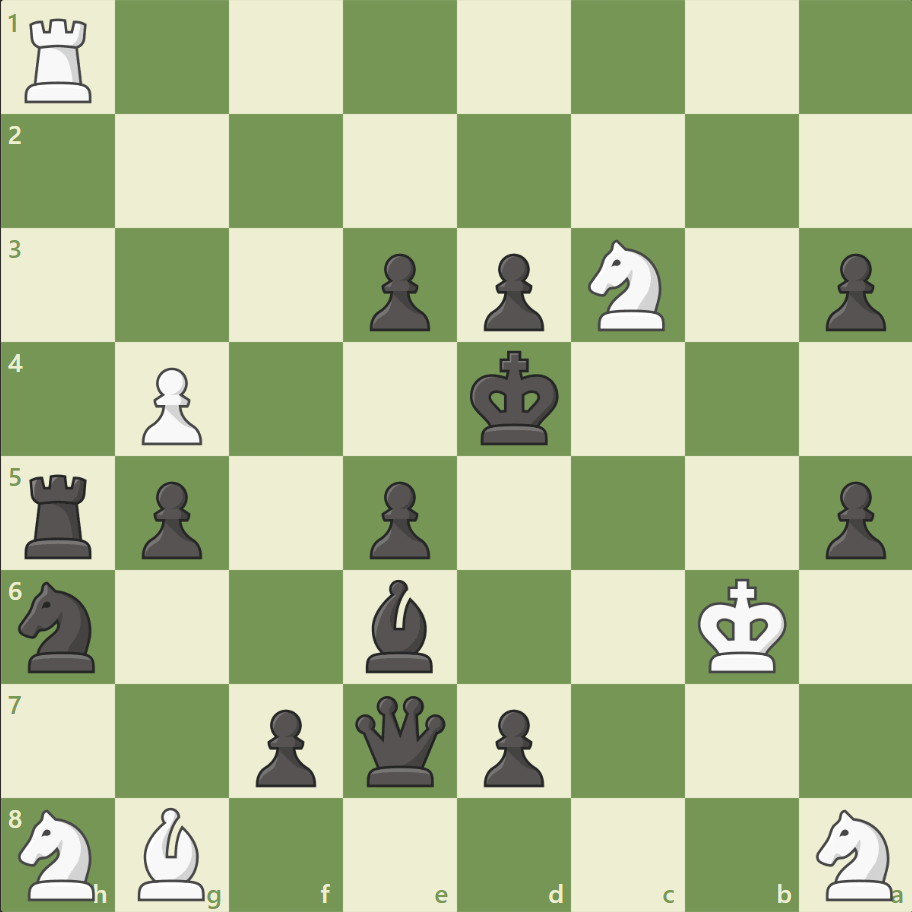B: (131, 801, 215, 904)
K: (692, 571, 792, 679)
N: (579, 234, 676, 337), (806, 802, 903, 904), (11, 802, 108, 904)
P: (133, 359, 208, 450)
R: (19, 12, 102, 109)
b: (358, 574, 442, 676)
k: (465, 344, 565, 452)
n: (11, 575, 108, 677)
p: (474, 700, 549, 791), (247, 700, 322, 791), (133, 473, 208, 564), (474, 246, 549, 337), (815, 473, 889, 564), (361, 473, 435, 564), (815, 246, 889, 337), (361, 246, 435, 337)
q: (351, 690, 450, 789)
r: (19, 466, 102, 563)
